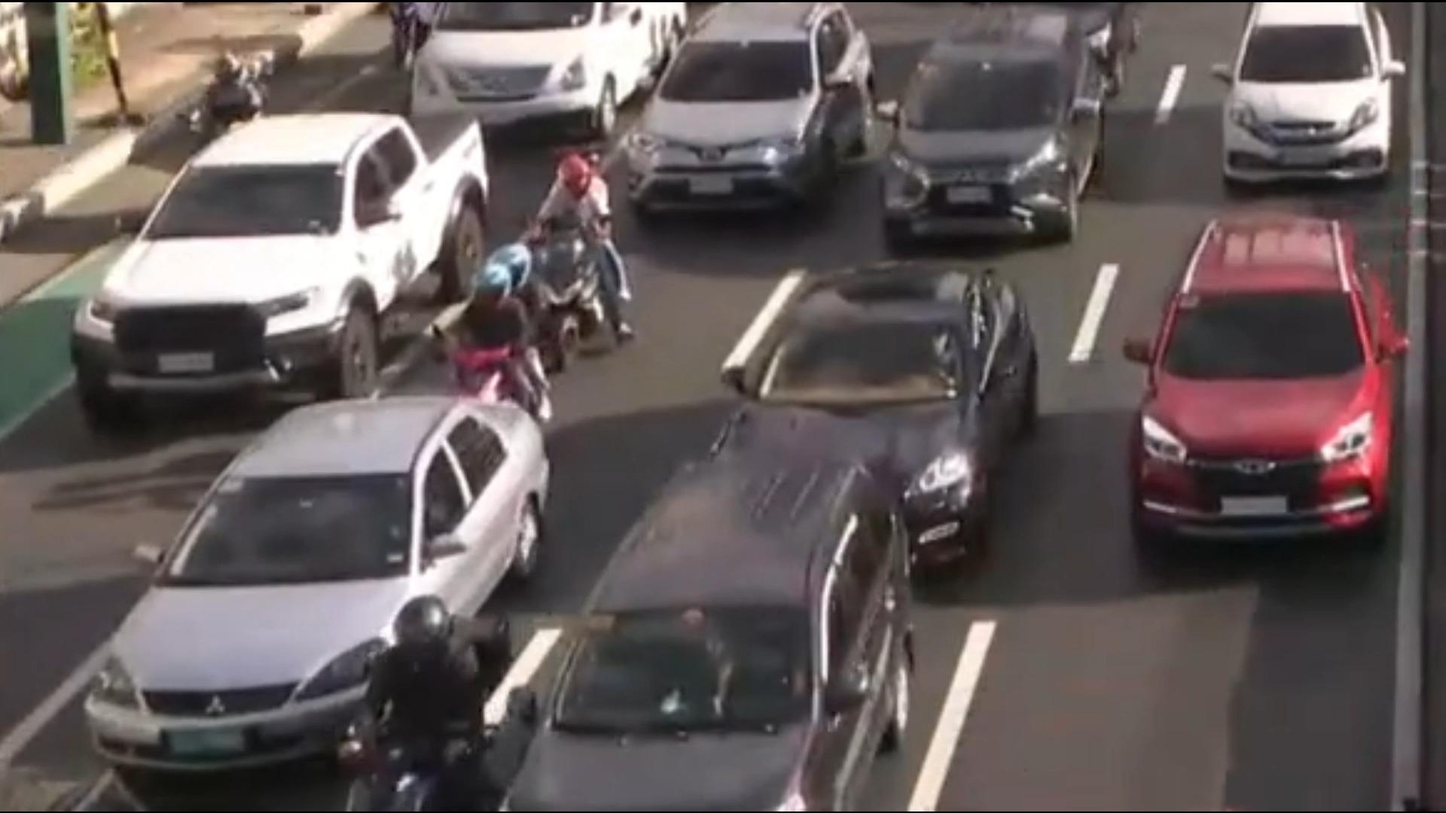Motorcycle: (426, 241, 559, 448), (525, 145, 635, 373), (183, 51, 271, 132)
Pickup: (75, 105, 491, 412)
SUV: (497, 448, 926, 813), (1117, 215, 1418, 542), (870, 21, 1118, 247), (619, 2, 879, 213), (409, 0, 706, 141)
Sedan: (77, 393, 557, 781), (702, 254, 1049, 565), (1213, 2, 1397, 181)
